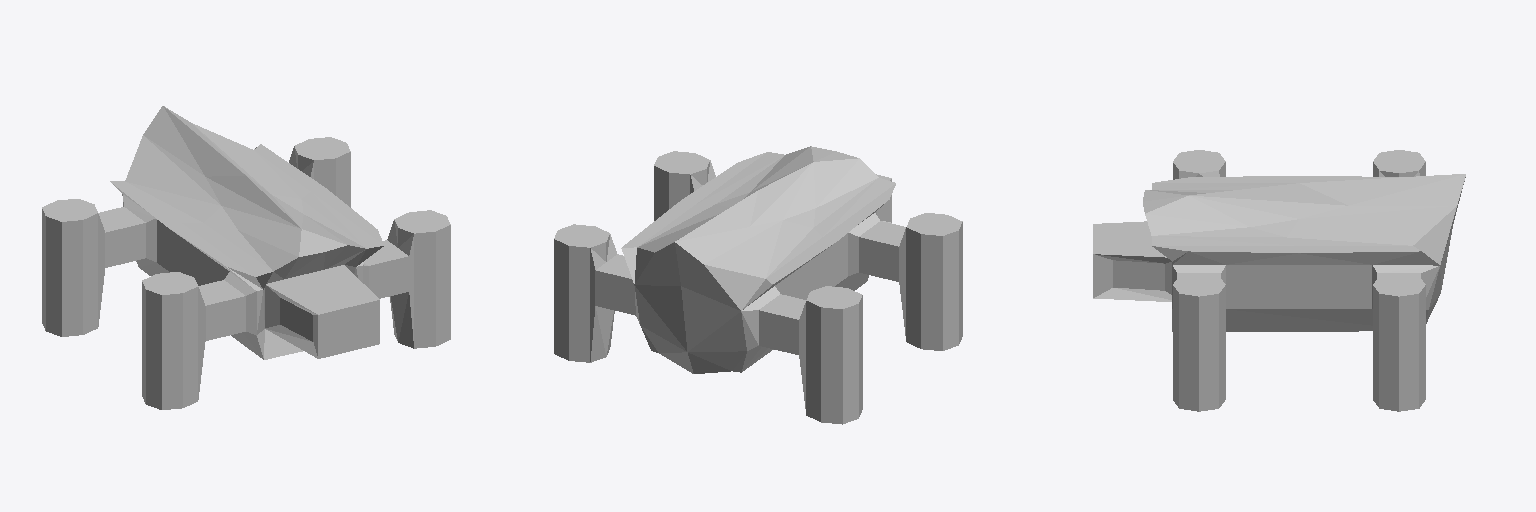
File: mothership_turtle.obj
3 views of the same model, side by side, from view 1: azimuth 30°, elevation 25°; view 2: azimuth 150°, elevation 25°; view 3: azimuth 270°, elevation 25° (orthographic).
Visible parts, largest first — view 1: Cube1; view 2: Cube1; view 3: Cube1.
Boxes of the visible parts, box(x1,y1,x2,y2) form: Cube1: box(42, 106, 450, 409); Cube1: box(554, 146, 962, 424); Cube1: box(1093, 150, 1465, 411).
Bounding box in the file's own units: 14.19 × 7.42 × 15.23.